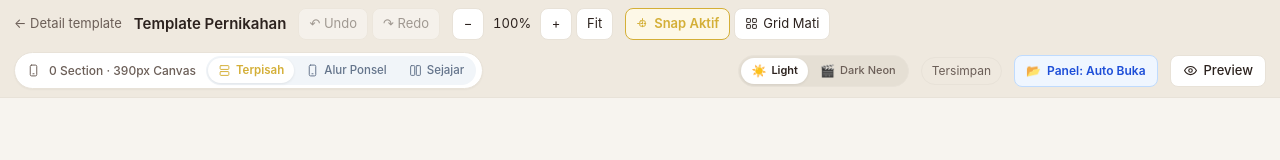
Test: Snap to Guides (Perataan Otomatis) in Editor › renders the Snap to Guides toggle button in TopBar and updates on click
# Toggle off
Click the button with test id "toggle-snap-guides".
click(678, 24)  # box [625,8,730,40]
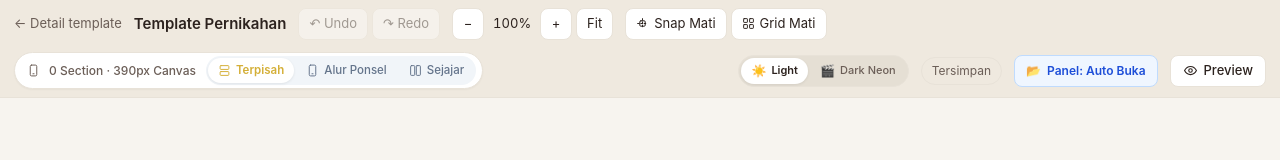
Result: the button with test id "toggle-snap-guides" reads "Snap Mati"
# Toggle on again
Click the button with test id "toggle-snap-guides".
click(676, 24)  # box [625,8,727,40]
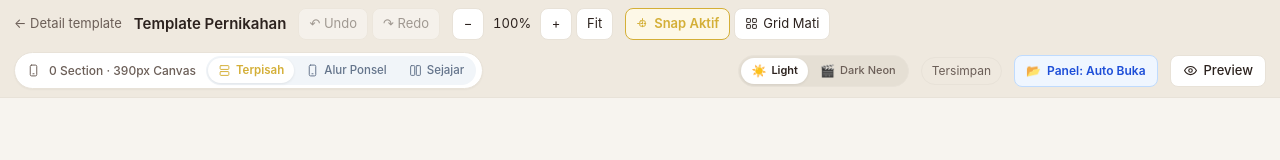
Result: the button with test id "toggle-snap-guides" reads "Snap Aktif" at [625,8,730,40]
